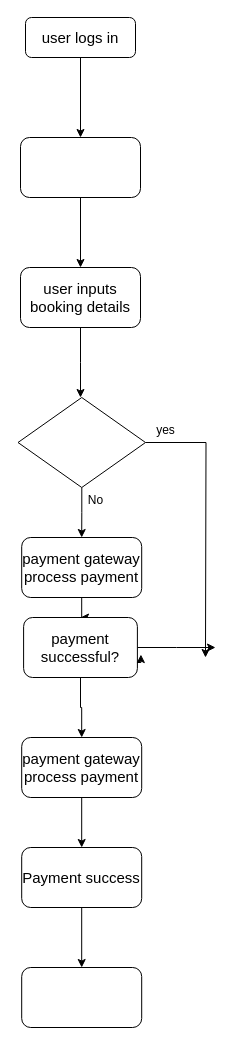
This 241x1045 diagram has some shape labels left out. Each missing label, with the centre of its shape:
booking confirmation to user: the point at 81,997
system validates total cost: the point at 81,442
user searches and selects a property: the point at 80,167
